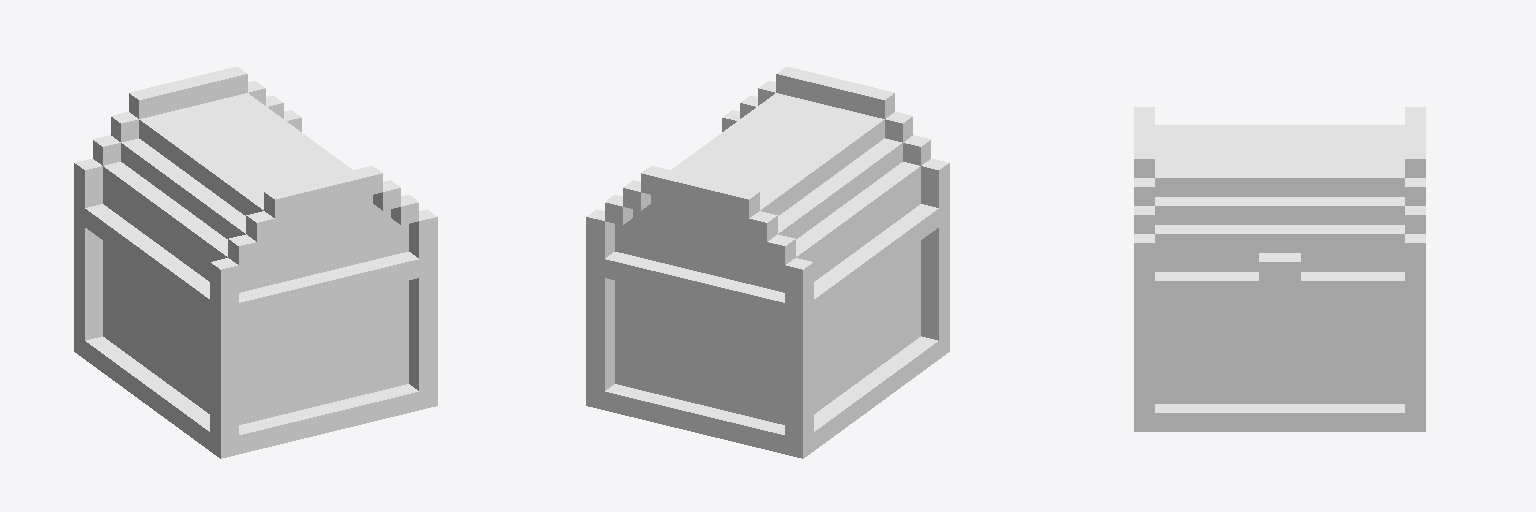
The model's file is silverchest.obj.
3 renders of one model, left to right at view 1: azimuth 30°, elevation 25°; view 2: azimuth 150°, elevation 25°; view 3: azimuth 270°, elevation 25°, orthographic.
Parts seen in each view (by area): view 1: object 1; view 2: object 1; view 3: object 1.
Part boxes in pixels (bbox=[...]): object 1: bbox=[74, 66, 437, 458]; object 1: bbox=[586, 66, 949, 458]; object 1: bbox=[1134, 107, 1425, 431].
Size of the model in its own units: 1.2 by 1.3 by 1.4.